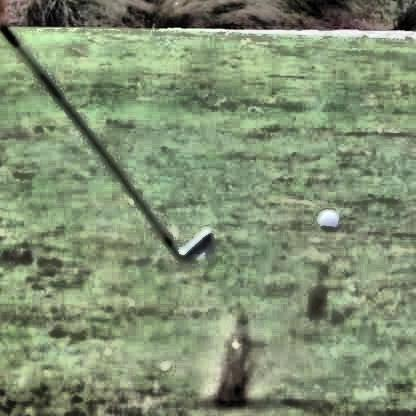golfball: (315, 207, 337, 229)
